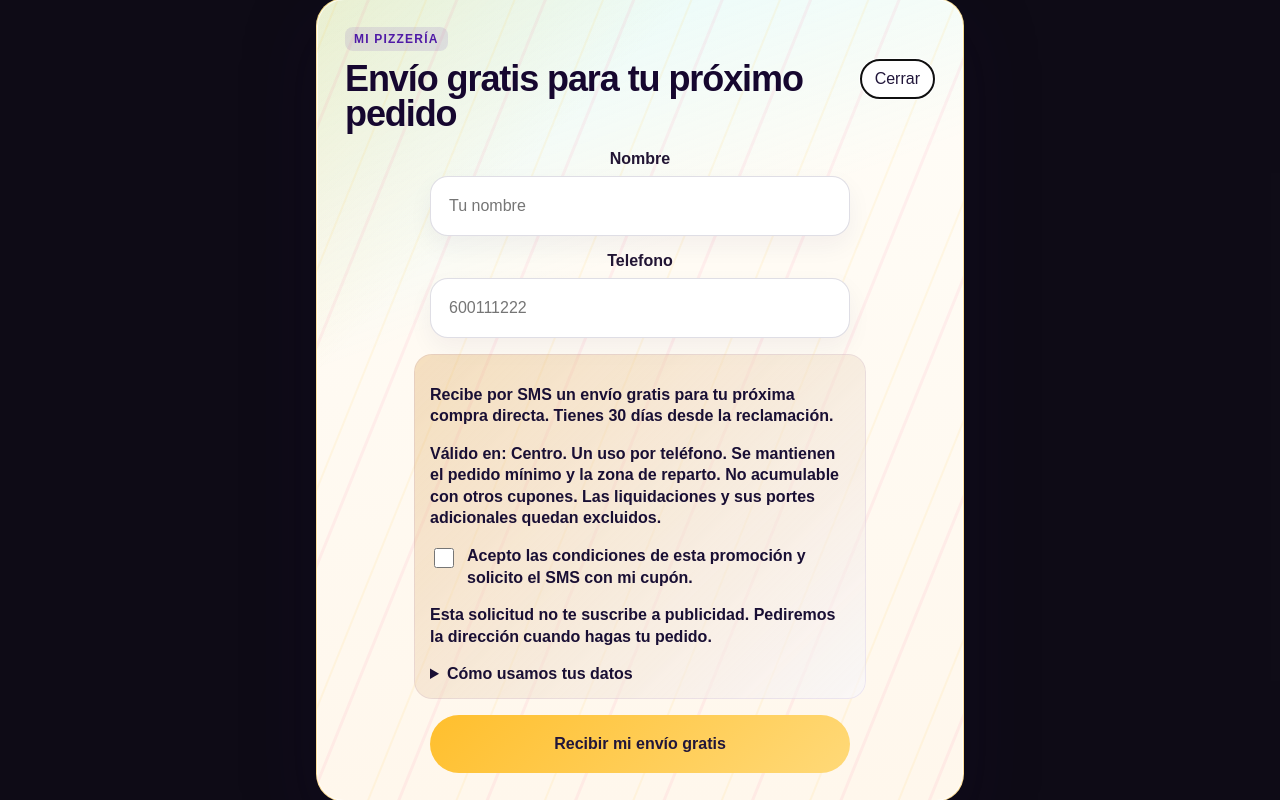
Scenario: confirmation distinguishes the actual SMS outcome: {"sent":true,"sentNow":false,"status":"queued"}
Type "Ana" into the field labelled "Nombre". click: [640, 206]
box: [430, 176, 850, 236]
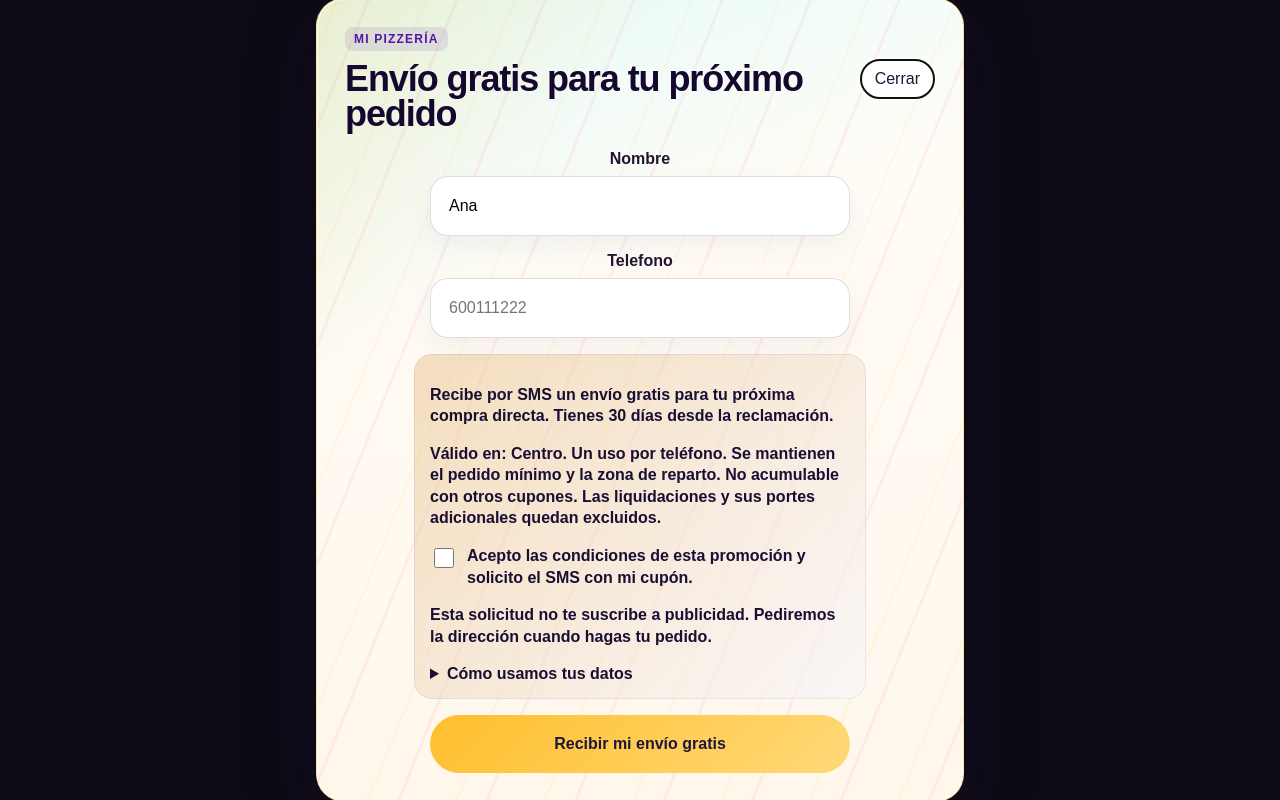
Type "600123456" into the field labelled "Telefono". click: [640, 308]
box: [430, 278, 850, 338]
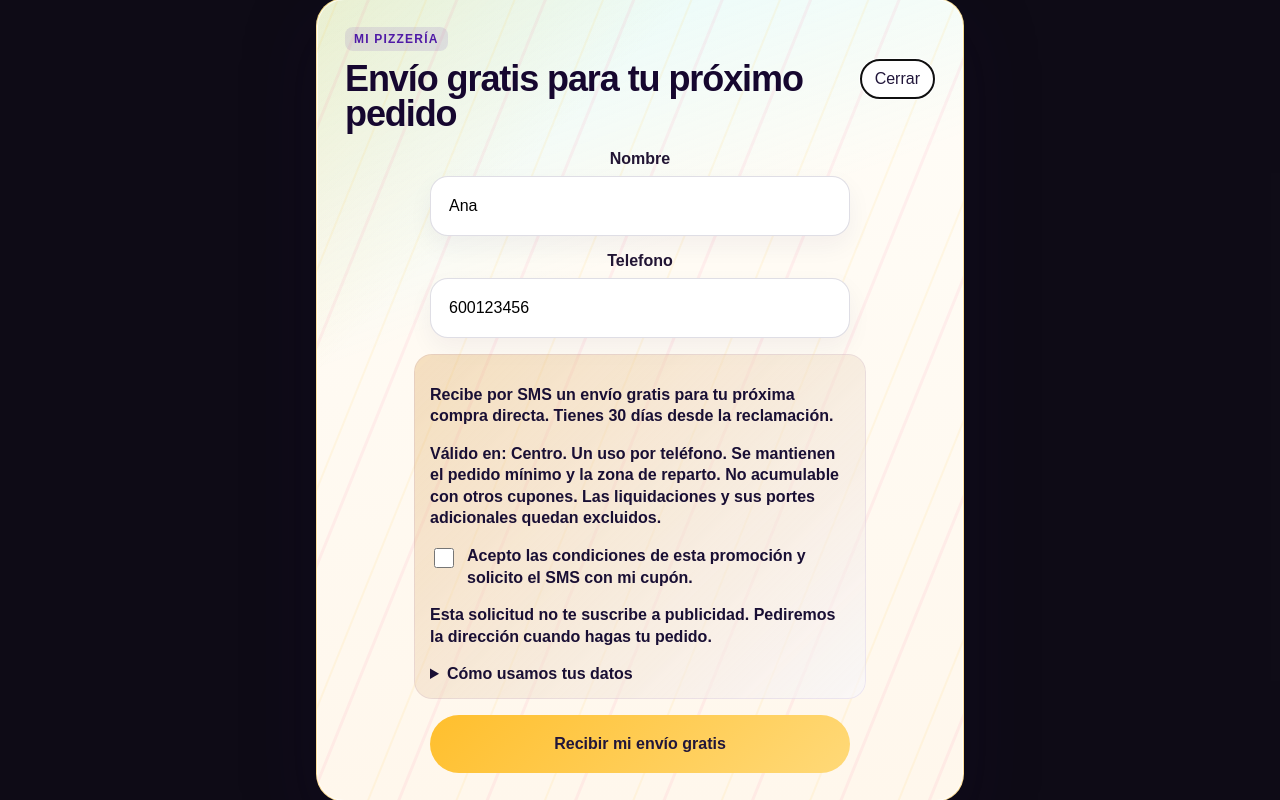
Click the checkbox. click: [444, 558]
box: [434, 548, 454, 568]
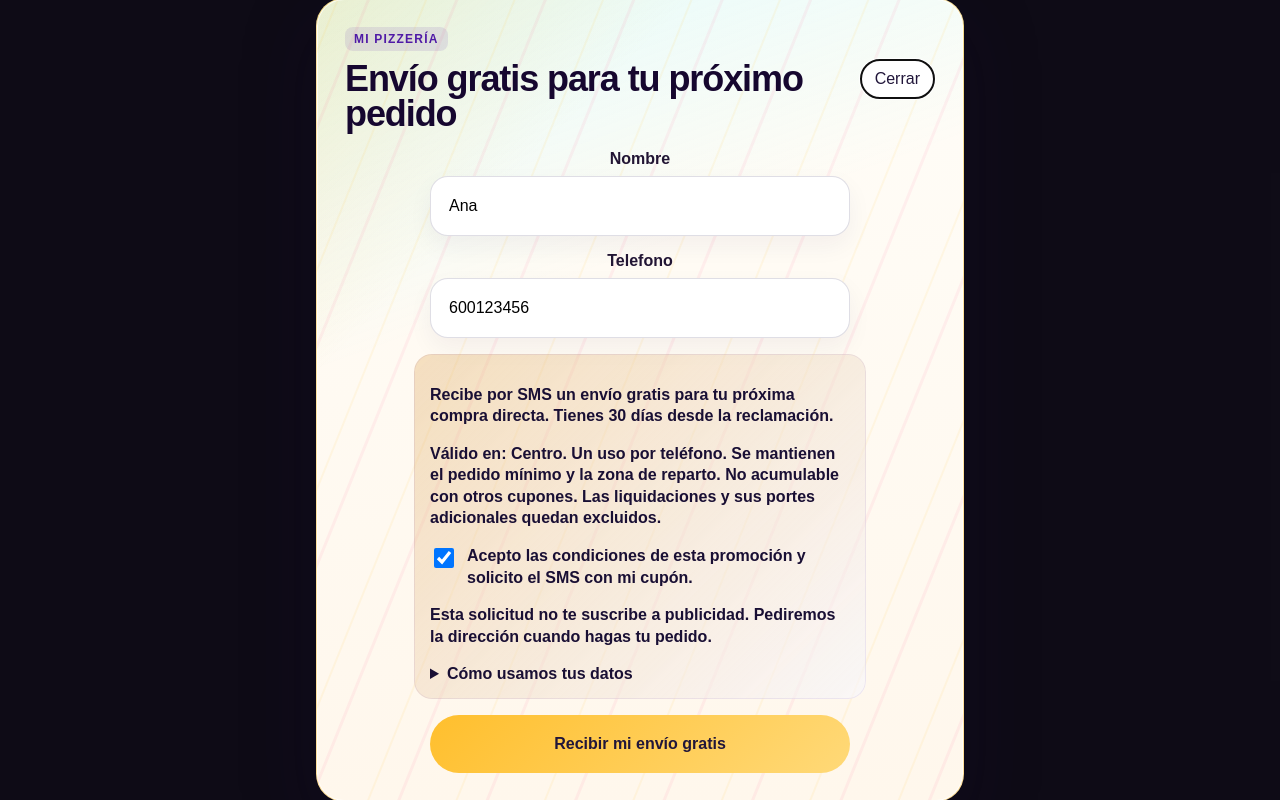
Click the button "Recibir mi envío gratis". click: [640, 744]
box: [430, 715, 850, 773]
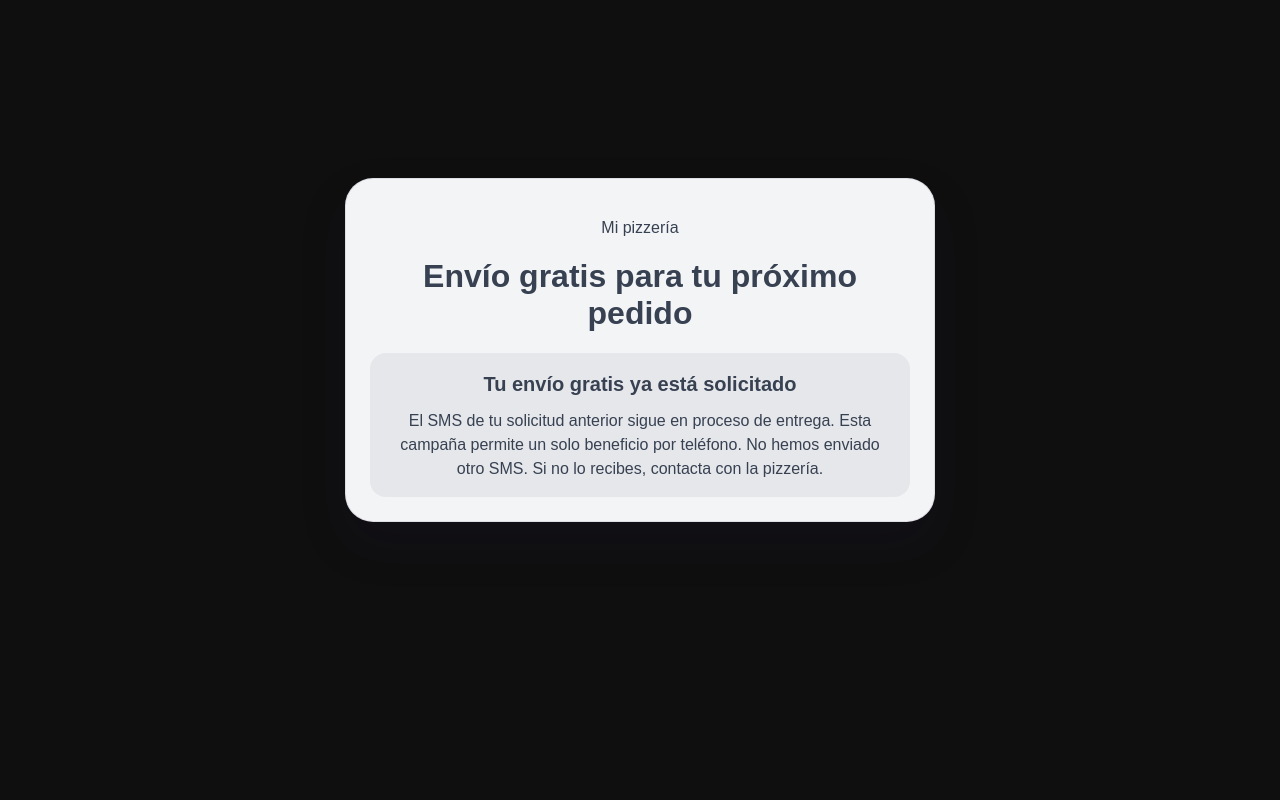
Expected: the heading "Tu envío gratis ya está solicitado" is shown, [484, 373, 797, 395]
Expected: the message shows "sigue en proceso de entrega", [400, 412, 880, 477]
Expected: the button "Recibir mi cupón por SMS" is gone
